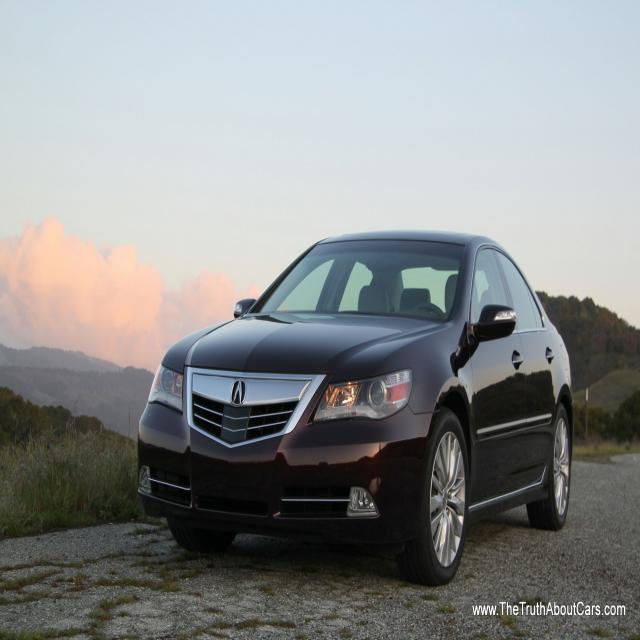car: (121, 207, 588, 592)
